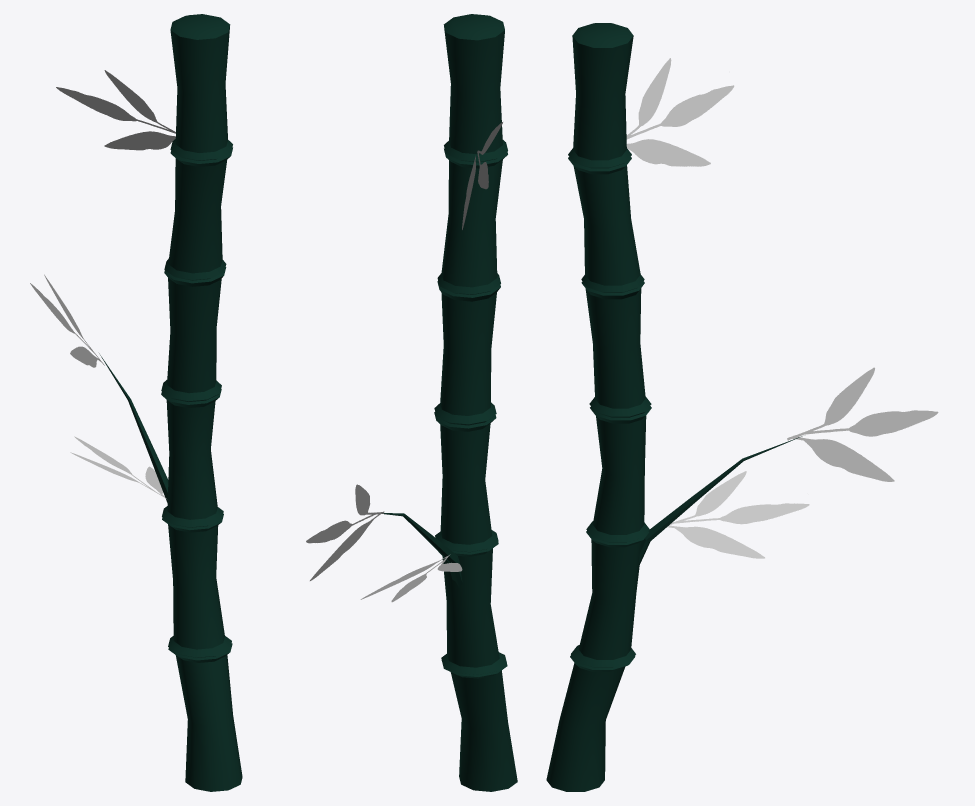
File: Bambus02_v1.fbx
The picture shows the model from 3 angles, left to right: view 1: azimuth 30°, elevation 25°; view 2: azimuth 150°, elevation 25°; view 3: azimuth 270°, elevation 25°; orthographic projection. The views are drawn at different scales.
Parts seen in each view (by area): view 1: Bambus02_Base, Bambus02_Leaves, Bambus02_Branch; view 2: Bambus02_Base, Bambus02_Leaves, Bambus02_Branch; view 3: Bambus02_Base, Bambus02_Leaves, Bambus02_Branch.
Boxes of the visible parts, x1,y1,x2,y2 form: Bambus02_Base: (161,14,242,791); Bambus02_Leaves: (30,70,175,498); Bambus02_Branch: (99,353,168,502); Bambus02_Base: (434,14,517,791); Bambus02_Leaves: (306,122,502,602); Bambus02_Branch: (382,513,462,587); Bambus02_Base: (546,23,651,791); Bambus02_Leaves: (626,58,938,558); Bambus02_Branch: (638,436,802,564).
Bounding box in the file's own units: 99.04 × 461 × 231.
